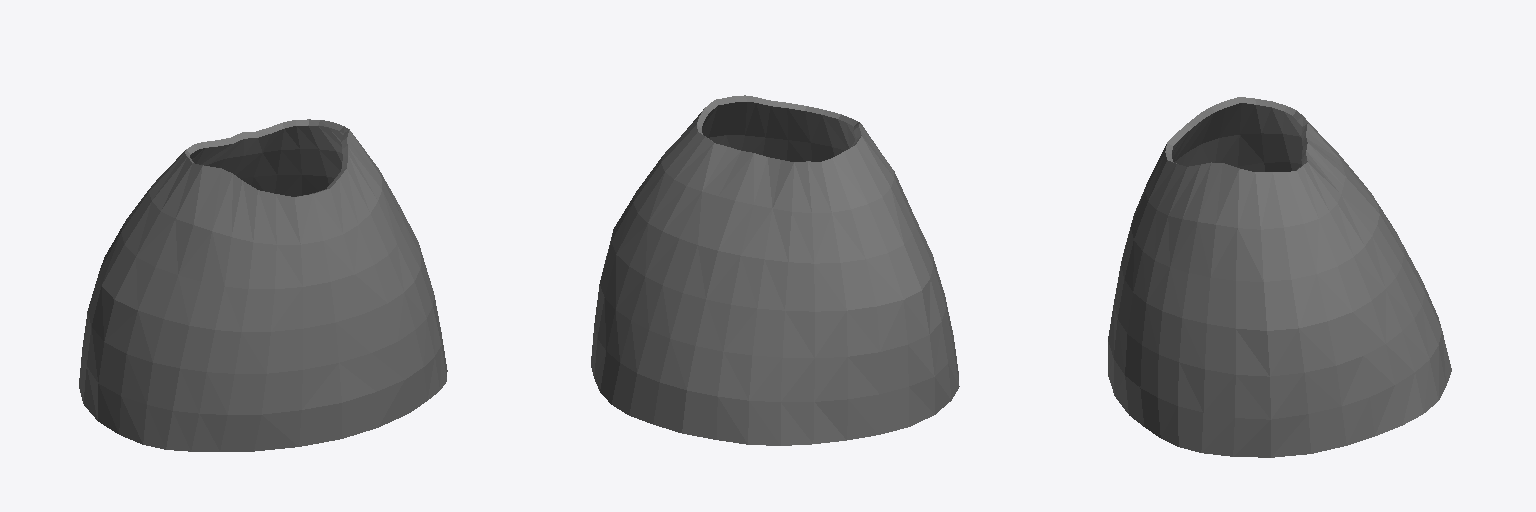
Rendered from LowPoly_FilhaAristocrata_Saia.obj.
3 views of the same model, side by side, from view 1: azimuth 30°, elevation 25°; view 2: azimuth 150°, elevation 25°; view 3: azimuth 270°, elevation 25° (orthographic).
Parts seen in each view (by area): view 1: LowPoly_FilhaAristocrata_Saia; view 2: LowPoly_FilhaAristocrata_Saia; view 3: LowPoly_FilhaAristocrata_Saia.
Boxes of the visible parts, <box> form: LowPoly_FilhaAristocrata_Saia: <box>79,119,447,451</box>; LowPoly_FilhaAristocrata_Saia: <box>591,95,959,445</box>; LowPoly_FilhaAristocrata_Saia: <box>1108,97,1451,457</box>.
Size of the model in its own units: 23.72 by 17.24 by 21.74.